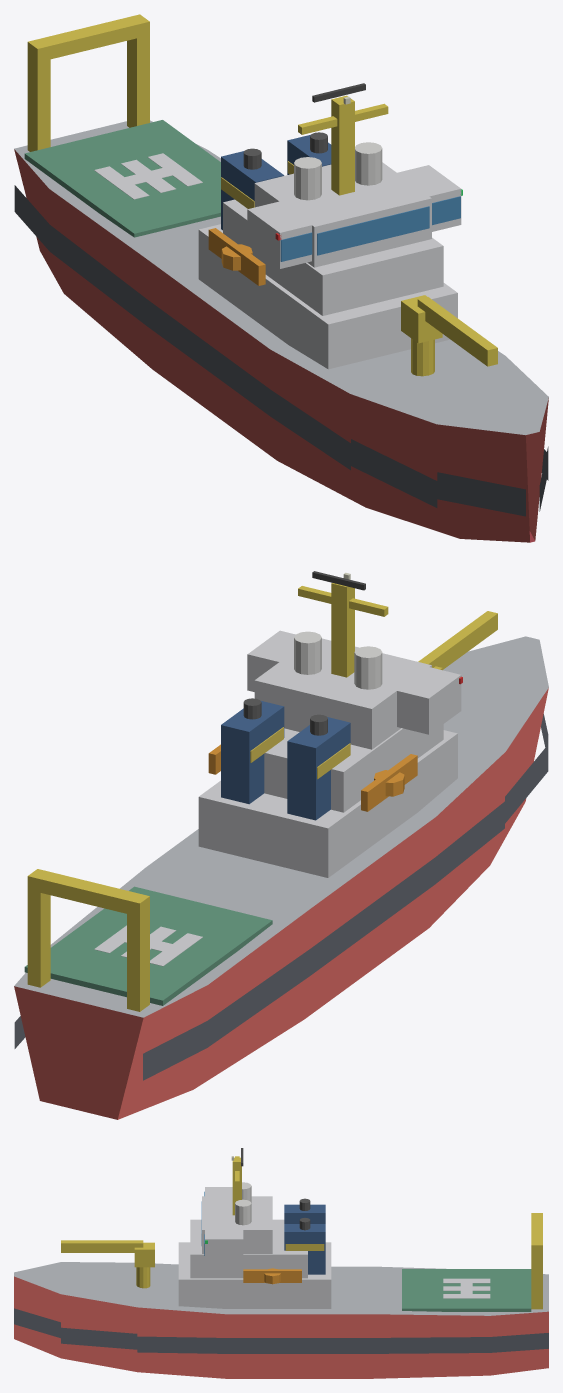
File: polar_ship.glb
3 renders of one model, top to bottom at view 1: azimuth 30°, elevation 25°; view 2: azimuth 150°, elevation 25°; view 3: azimuth 270°, elevation 25°, orthographic. The views are drawn at different scales.
Visible parts, largest first — view 1: PolarResearchVessel; view 2: PolarResearchVessel; view 3: PolarResearchVessel.
Boxes of the visible parts, <box> form: PolarResearchVessel: <box>14,14,548,542</box>; PolarResearchVessel: <box>14,571,548,1119</box>; PolarResearchVessel: <box>14,1148,548,1378</box>.
Bounding box in the file's own units: 21.4 × 37.8 × 91.
